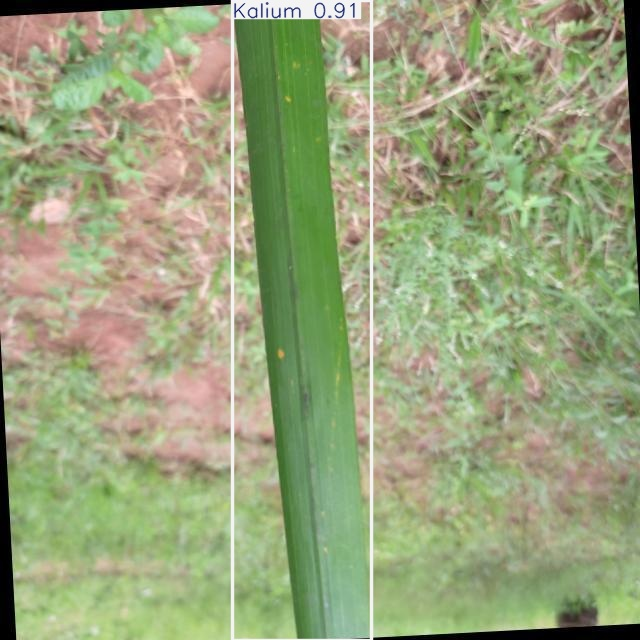Kalium: (233, 0, 372, 640)
